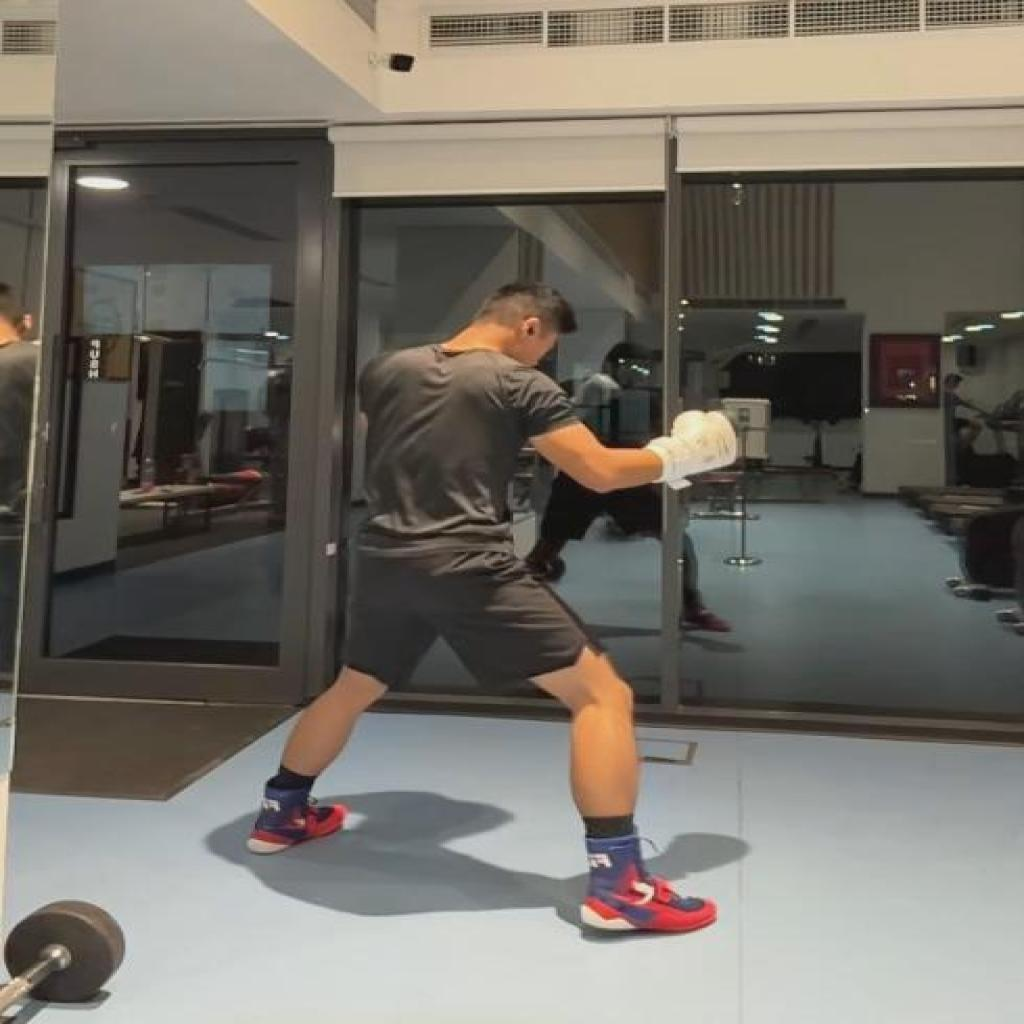uppercut: (244, 277, 742, 947)
